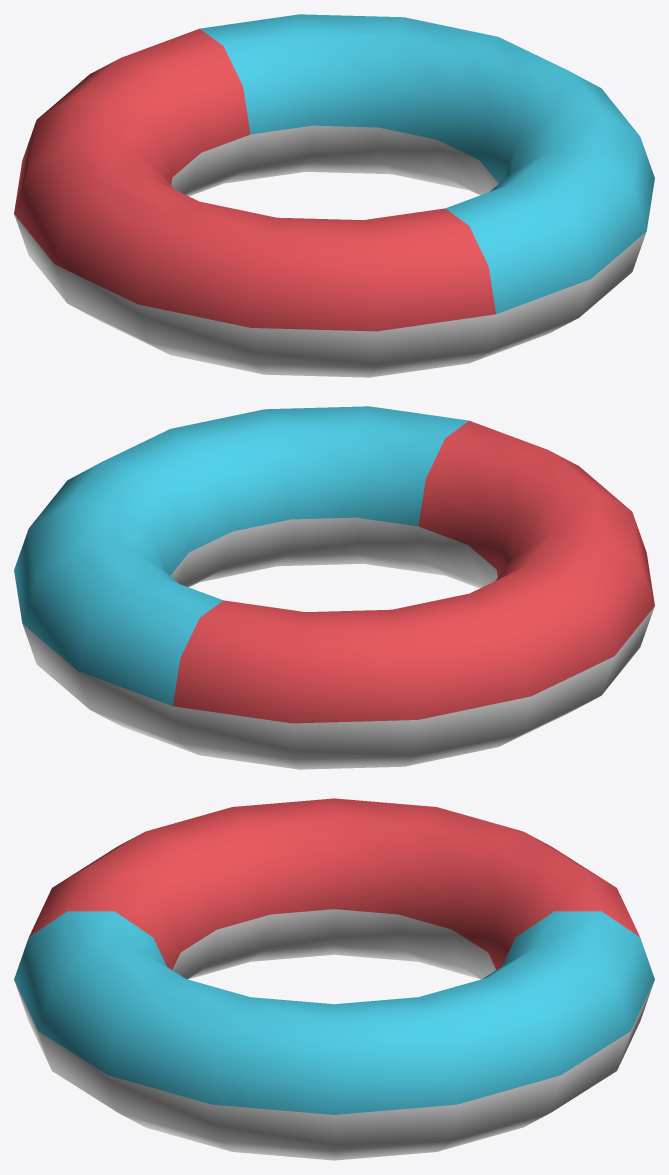
File: swim-ring-blue-berry.glb
3 views of the same model, one above another, from view 1: azimuth 30°, elevation 25°; view 2: azimuth 150°, elevation 25°; view 3: azimuth 270°, elevation 25° (orthographic).
Parts seen in each view (by area): view 1: blue-berry-cherry; view 2: blue-berry-cherry; view 3: blue-berry-cherry.
Part boxes in pixels (bbox=[...]): blue-berry-cherry: bbox=[14, 14, 654, 377]; blue-berry-cherry: bbox=[14, 406, 654, 769]; blue-berry-cherry: bbox=[14, 798, 654, 1160].
Size of what is drawn, in the model's own units: 1.9 by 0.4453 by 1.9.
